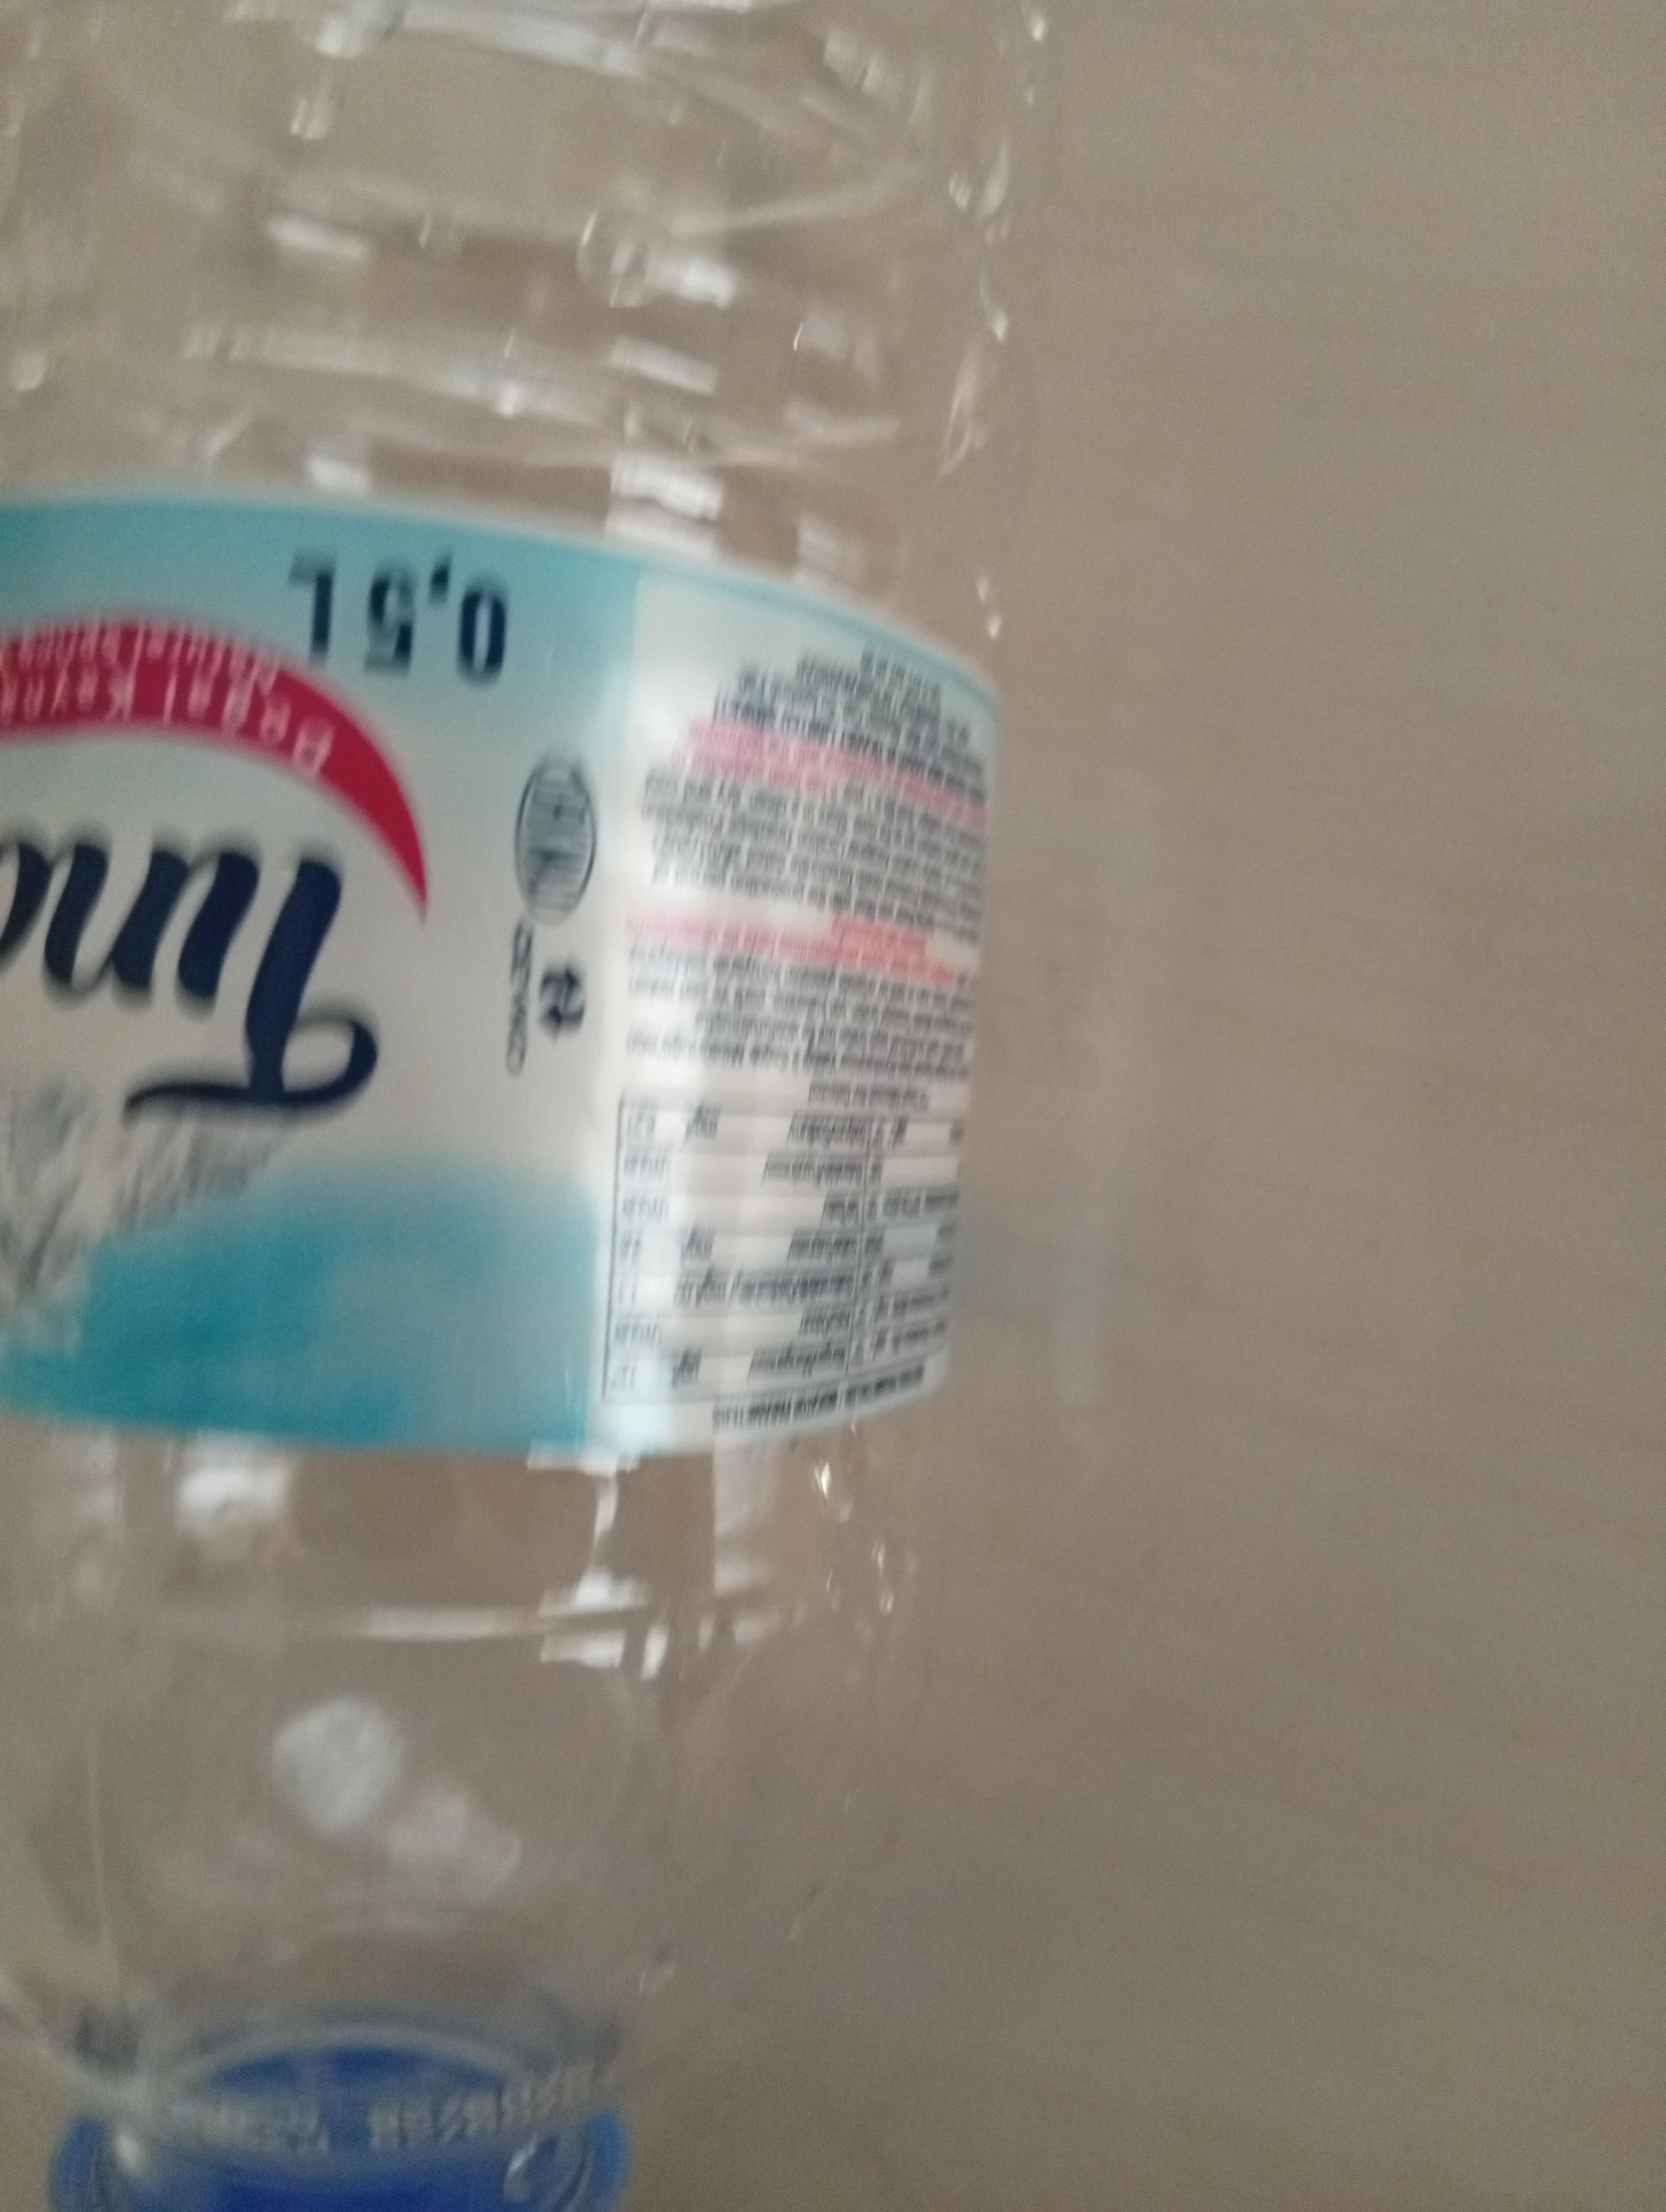etiketli: (0, 0, 1087, 2207)
